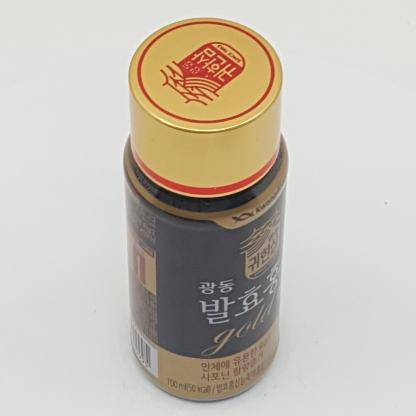-------100ml: (122, 16, 290, 402)
